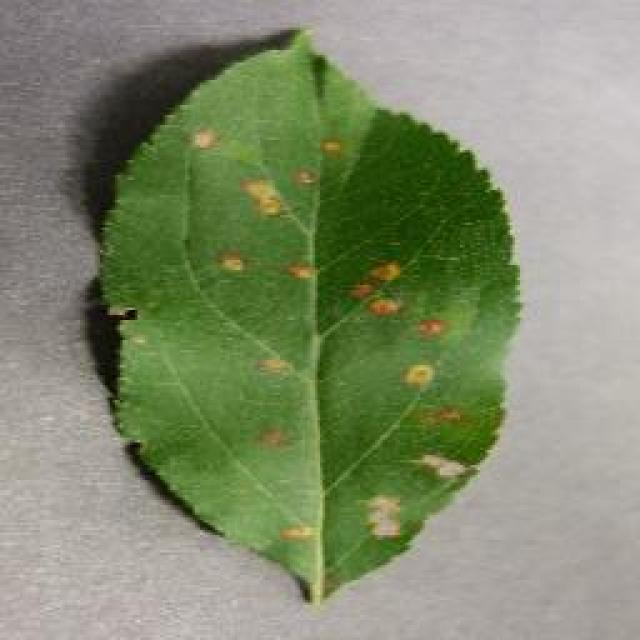apple cedar apple rust: (85, 25, 525, 605)
